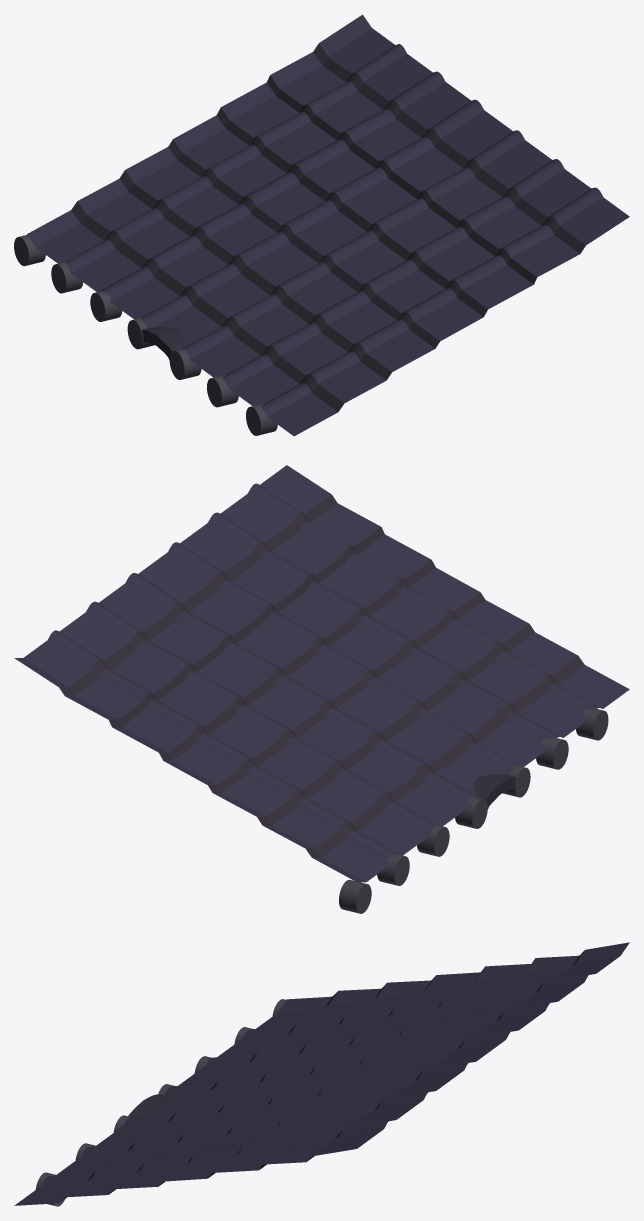
The model's file is tileroof1.fbx.
The picture shows the model from 3 angles, top to bottom: view 1: azimuth 30°, elevation 25°; view 2: azimuth 150°, elevation 25°; view 3: azimuth 330°, elevation 25°; orthographic projection. The views are drawn at different scales.
Visible parts, largest first — view 1: mainroofbakegeoedit.002, circleretry.007, transitiontiles.003; view 2: mainroofbakegeoedit.002, circleretry.007, transitiontiles.003; view 3: mainroofbakegeoedit.002, circleretry.007, transitiontiles.003.
Boxes of the visible parts, x1,y1,x2,y2 form: mainroofbakegeoedit.002: (27,14,629,436); circleretry.007: (14,235,277,435); transitiontiles.003: (142,327,183,359); mainroofbakegeoedit.002: (14,465,629,882); circleretry.007: (339,709,608,913); transitiontiles.003: (474,774,516,809); mainroofbakegeoedit.002: (14,942,629,1205); circleretry.007: (35,999,285,1206); transitiontiles.003: (128,1094,169,1117).
Size of the model in its own units: 150 by 70.08 by 209.
